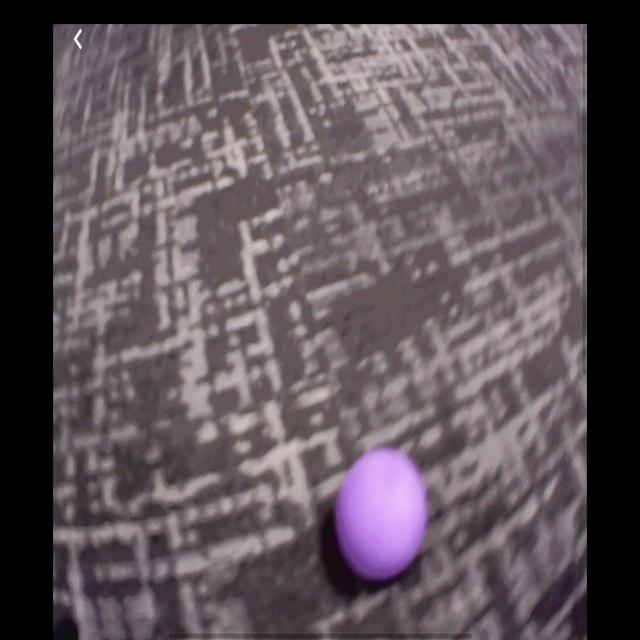ball: (336, 455, 430, 577)
